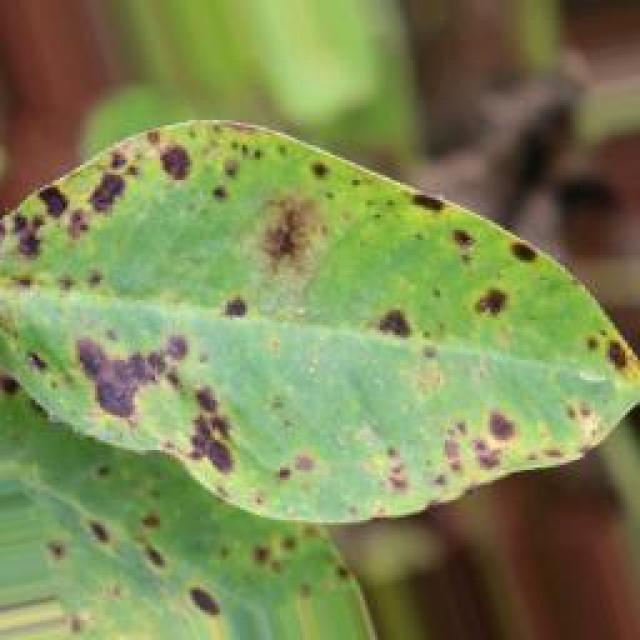Yellowish: (0, 108, 640, 632)
